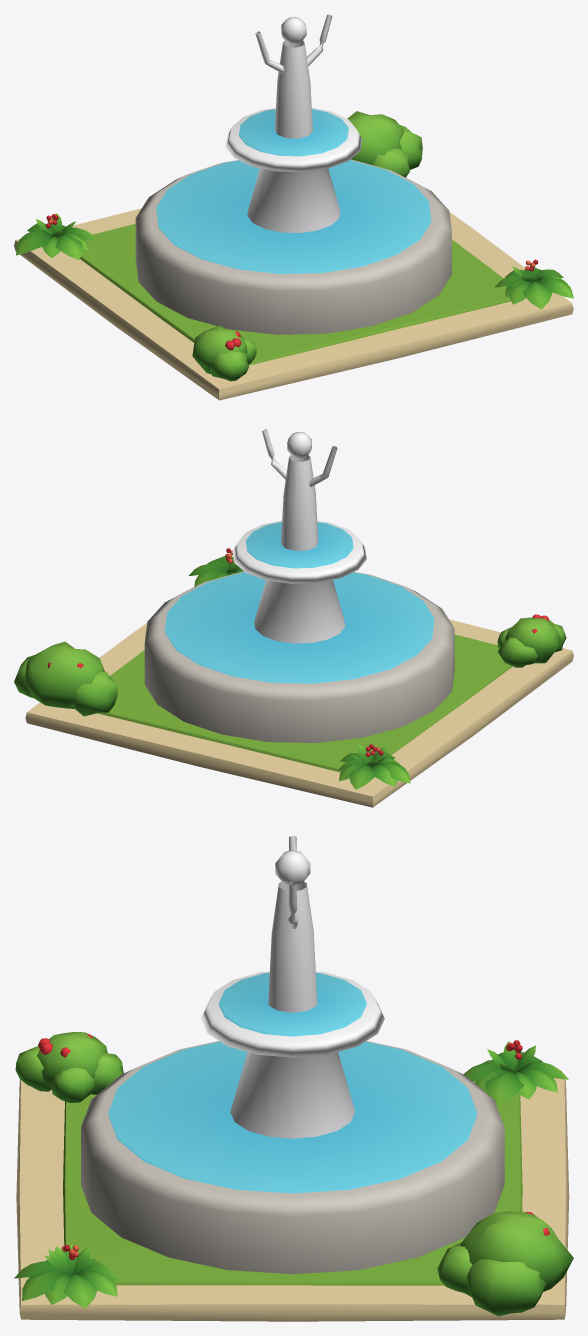
Rendered from FountainStatue.obj.
The picture shows the model from 3 angles, top to bottom: view 1: azimuth 30°, elevation 25°; view 2: azimuth 150°, elevation 25°; view 3: azimuth 270°, elevation 25°; orthographic projection. The views are drawn at different scales.
Parts seen in each view (by area): view 1: FountainStatue; view 2: FountainStatue; view 3: FountainStatue.
Part boxes in pixels (x1=…): FountainStatue: x1=14, y1=14, x2=573, y2=400; FountainStatue: x1=14, y1=429, x2=573, y2=807; FountainStatue: x1=14, y1=836, x2=573, y2=1321.
Size of the model in its own units: 3.34 by 2.14 by 3.04.
1 material, 1 textured.
